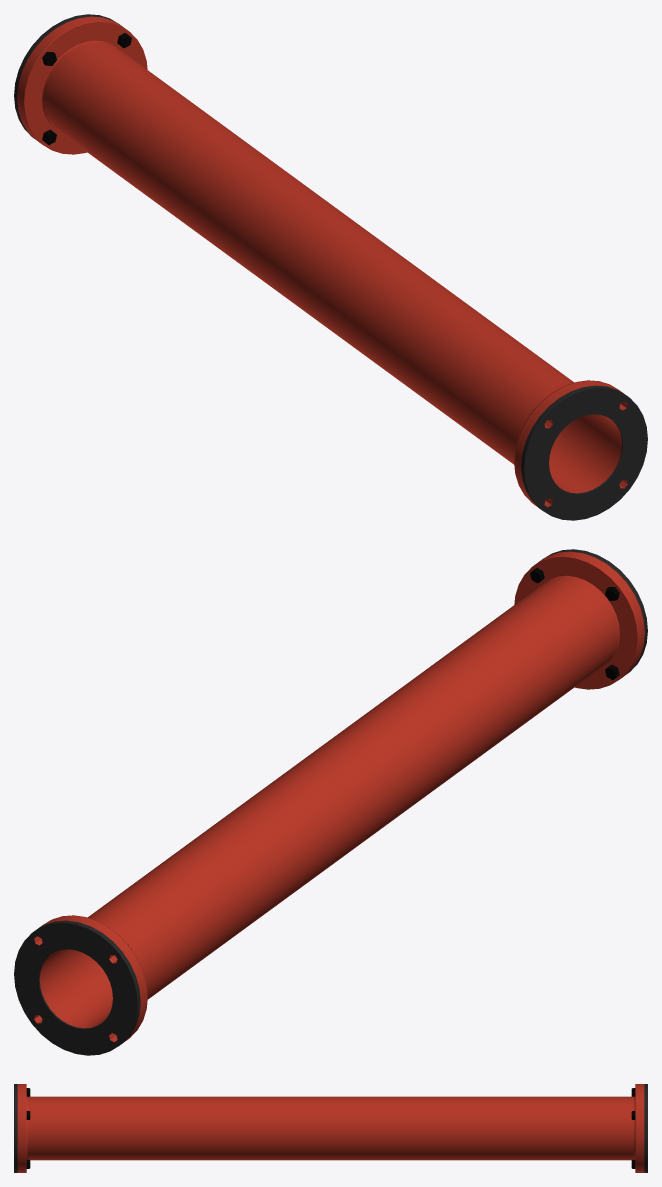
The model's file is StraightPipe.fbx.
3 renders of one model, top to bottom at view 1: azimuth 30°, elevation 25°; view 2: azimuth 150°, elevation 25°; view 3: azimuth 270°, elevation 25°, orthographic. The views are drawn at different scales.
Parts seen in each view (by area): view 1: Straight_Pipe; view 2: Straight_Pipe; view 3: Straight_Pipe.
Part boxes in pixels (bbox=[...]): Straight_Pipe: bbox=[14, 14, 647, 520]; Straight_Pipe: bbox=[14, 549, 647, 1055]; Straight_Pipe: bbox=[14, 1084, 647, 1172].
Bounding box in the file's own units: 14 × 14 × 100.
